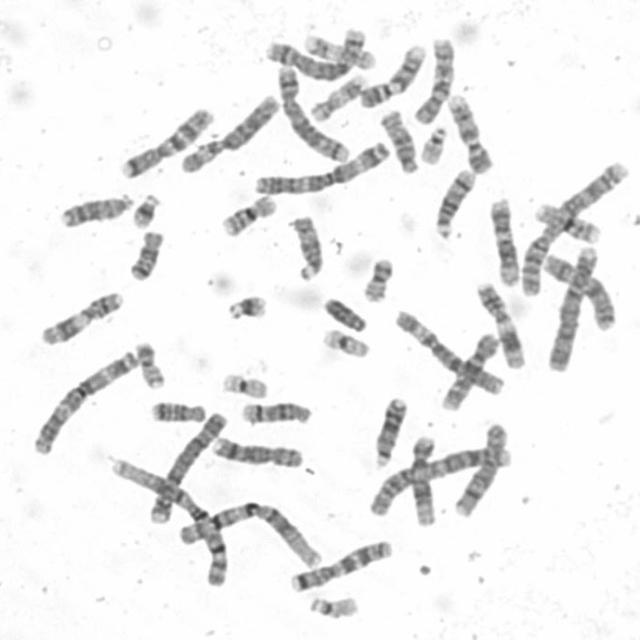A1: (105, 452, 233, 590), (169, 495, 326, 570)
A2: (514, 154, 634, 298), (363, 442, 514, 520)
A3: (28, 344, 142, 456), (249, 135, 394, 197)
B4: (143, 404, 231, 527), (542, 240, 604, 374)
B5: (272, 61, 351, 163), (262, 24, 370, 80)
C10: (438, 328, 502, 412), (409, 31, 457, 126)
C11: (35, 286, 126, 347), (470, 276, 529, 370)
C12: (484, 193, 523, 287), (407, 428, 440, 526)
C6: (388, 304, 506, 396), (176, 90, 280, 175)
C7: (115, 101, 216, 180), (285, 534, 395, 594)
C8: (449, 416, 512, 520), (207, 430, 307, 470)
C9: (356, 38, 429, 110), (442, 89, 495, 175)
D13: (55, 188, 136, 230), (368, 390, 410, 470)
D14: (430, 164, 478, 240), (236, 396, 315, 426)
D15: (376, 105, 422, 175), (287, 208, 327, 282)
E16: (529, 195, 603, 245), (216, 190, 278, 238)
E17: (306, 69, 368, 123), (299, 29, 377, 71)
E18: (124, 225, 167, 283), (147, 395, 209, 424)
F19: (318, 324, 373, 360), (217, 367, 270, 400)
F20: (131, 335, 169, 391), (358, 251, 397, 304)
G21: (221, 288, 270, 322), (128, 188, 164, 229)
G22: (303, 589, 362, 621), (415, 120, 450, 166)
X: (540, 248, 618, 334)
Y: (317, 291, 368, 334)
